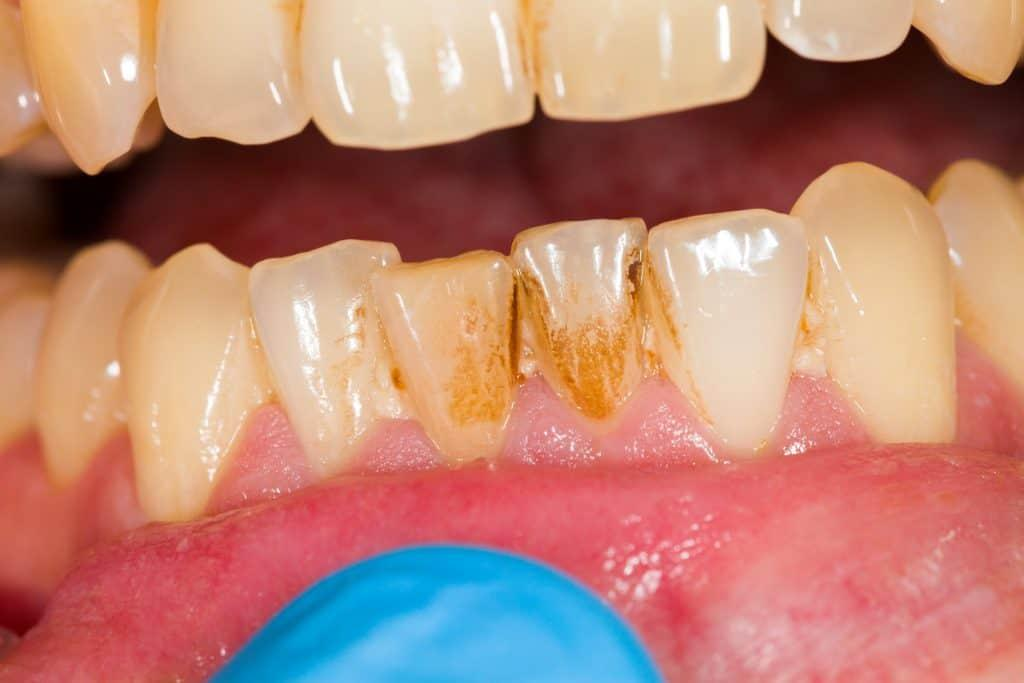Plaque: (423, 257, 653, 427), (658, 267, 723, 443)
